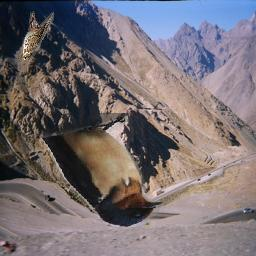Sparrow: (20, 12, 55, 61)
Swallow: (40, 113, 165, 227)
